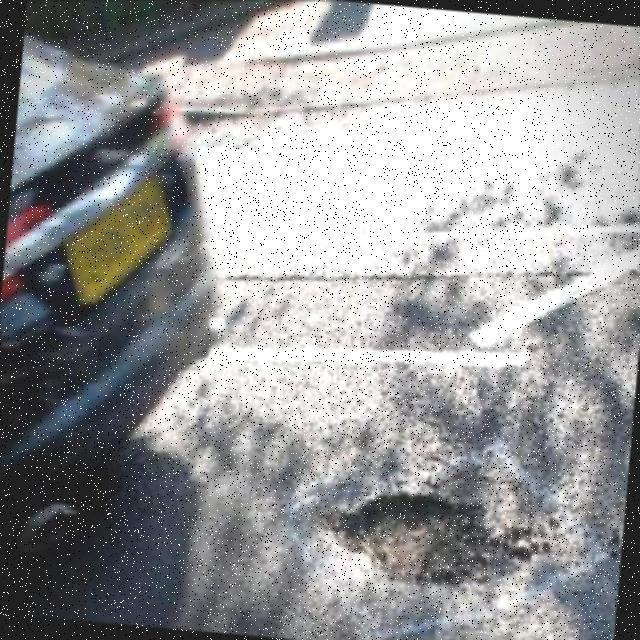Pothole: (335, 494, 530, 586)
